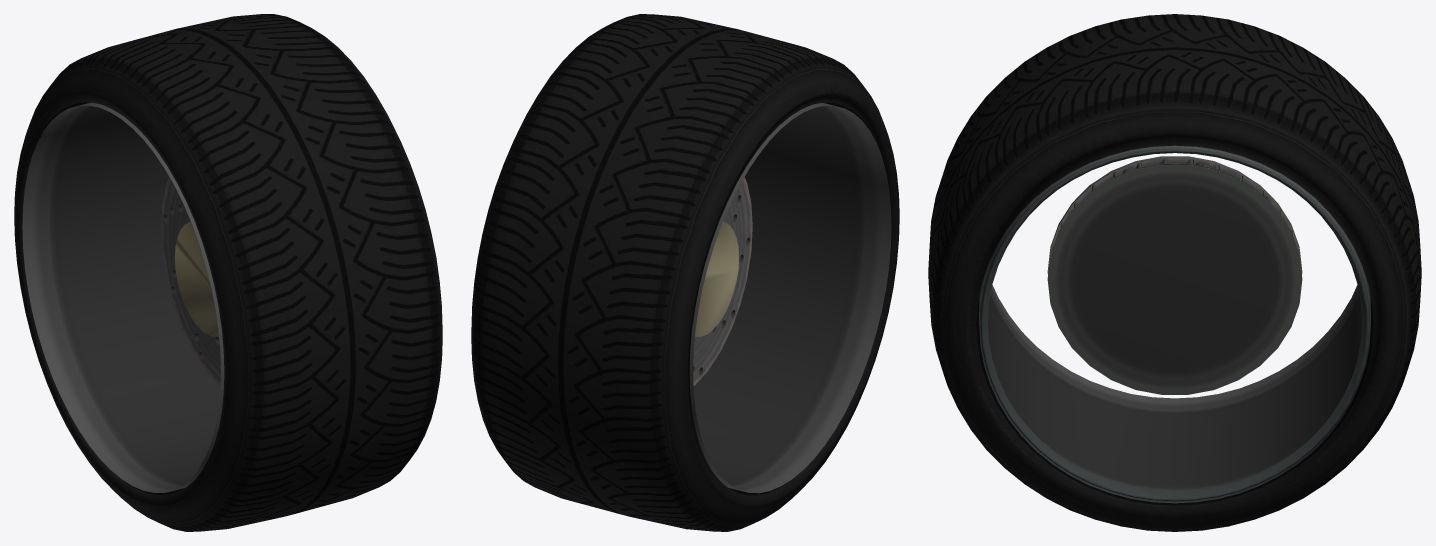
Rendered from Tire.fbx.
3 renders of one model, left to right at view 1: azimuth 30°, elevation 25°; view 2: azimuth 150°, elevation 25°; view 3: azimuth 270°, elevation 25°, orthographic.
Visible parts, largest first — view 1: wheel_hiend_11.001; view 2: wheel_hiend_11.001; view 3: wheel_hiend_11.001.
Boxes of the visible parts, x1=… form: wheel_hiend_11.001: x1=14, y1=14, x2=442, y2=531; wheel_hiend_11.001: x1=471, y1=14, x2=899, y2=531; wheel_hiend_11.001: x1=928, y1=14, x2=1421, y2=531.
Bounding box in the file's own units: 50 × 99.41 × 99.41.
